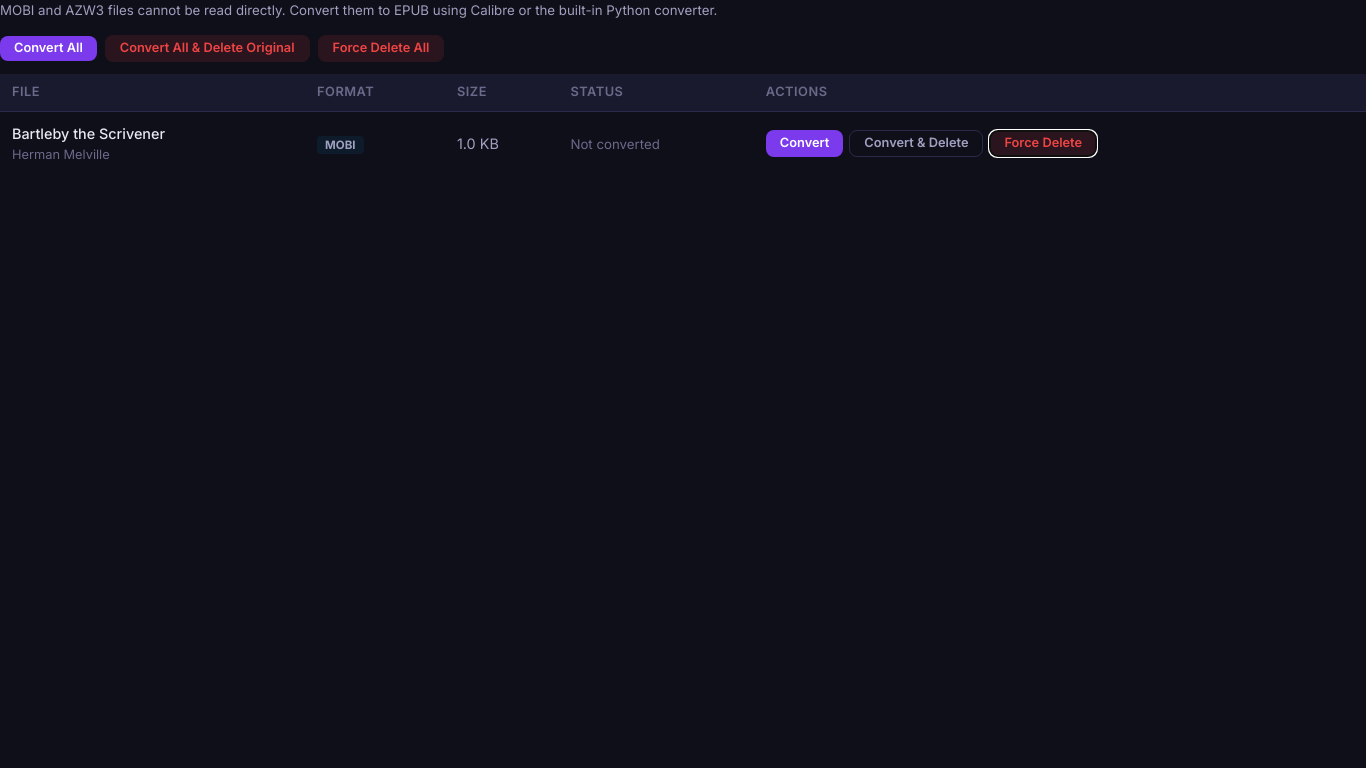
it: UnsupportedFilesPanel force-delete confirmation is a dialog › is labelled, names the file, and Escape closes it with focus restored
Expected: the text "Bartleby the Scrivener" is shown, [12,124,165,142]
Step 1. Click the button "Force Delete" → [1043, 143], box [990,130,1097,157]
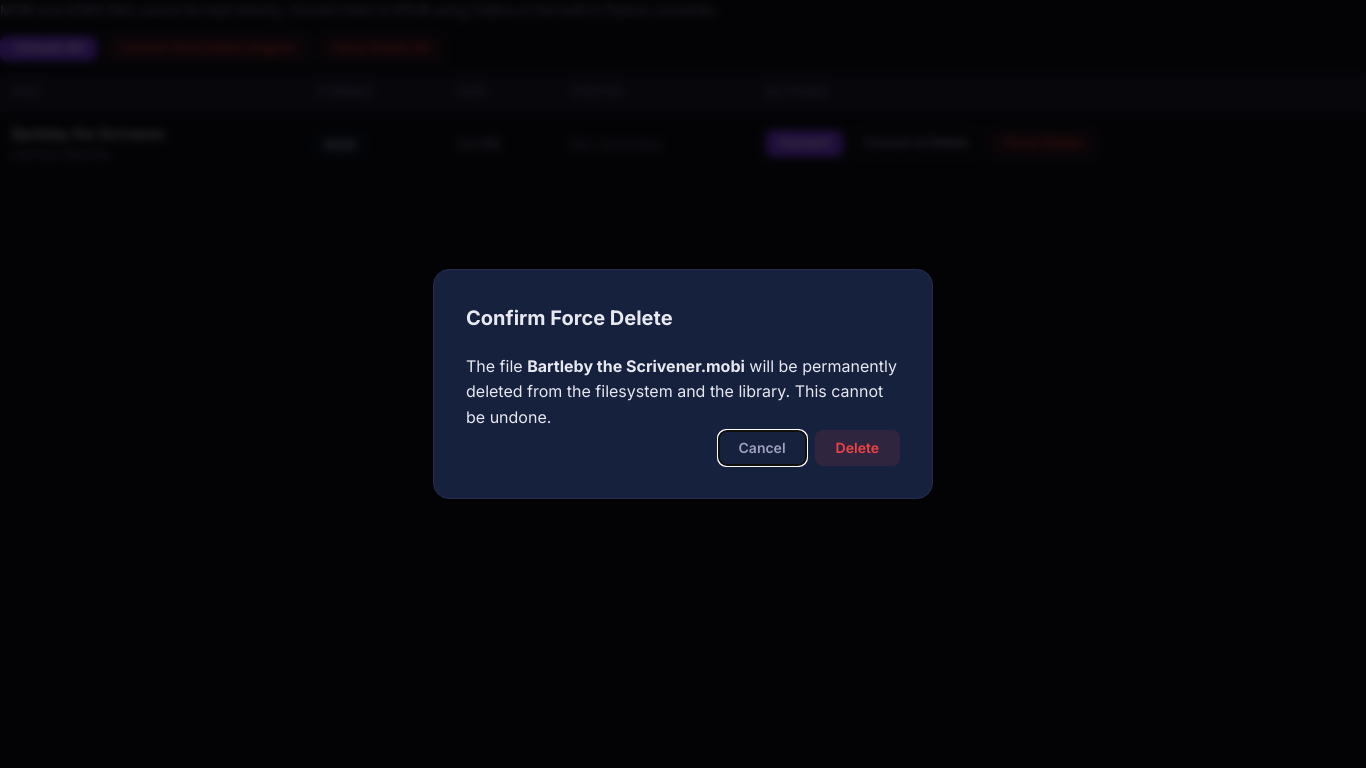
Result: the dialog shows "Bartleby the Scrivener.mobi" at [527,356,745,376]
Step 2. Press Escape
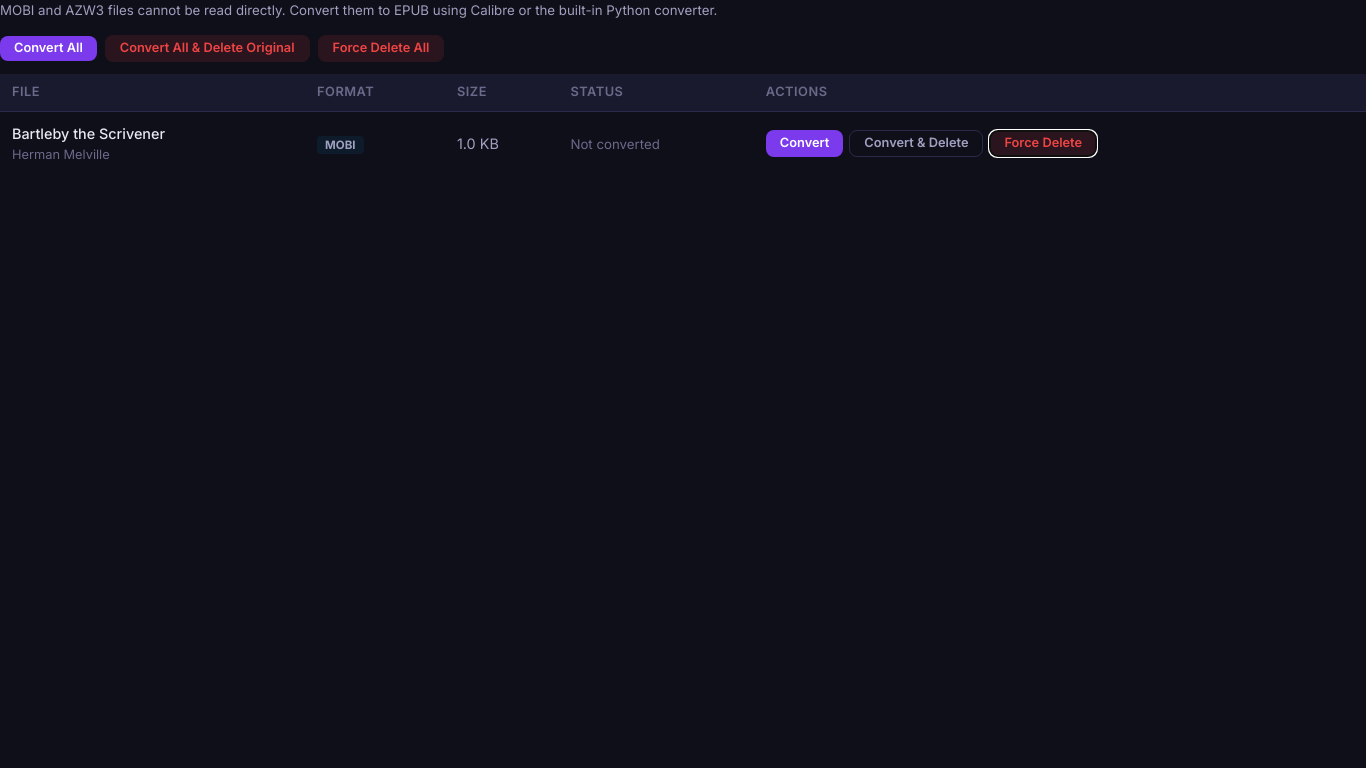
Result: the dialog is gone
